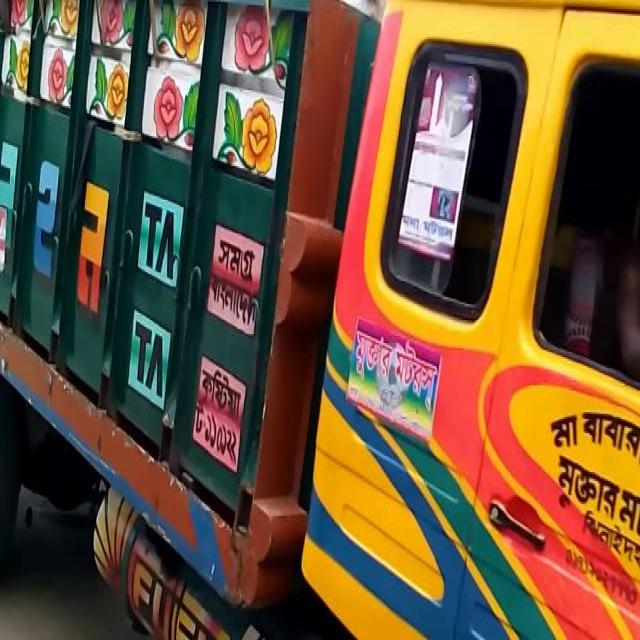truck: (2, 1, 640, 632)
